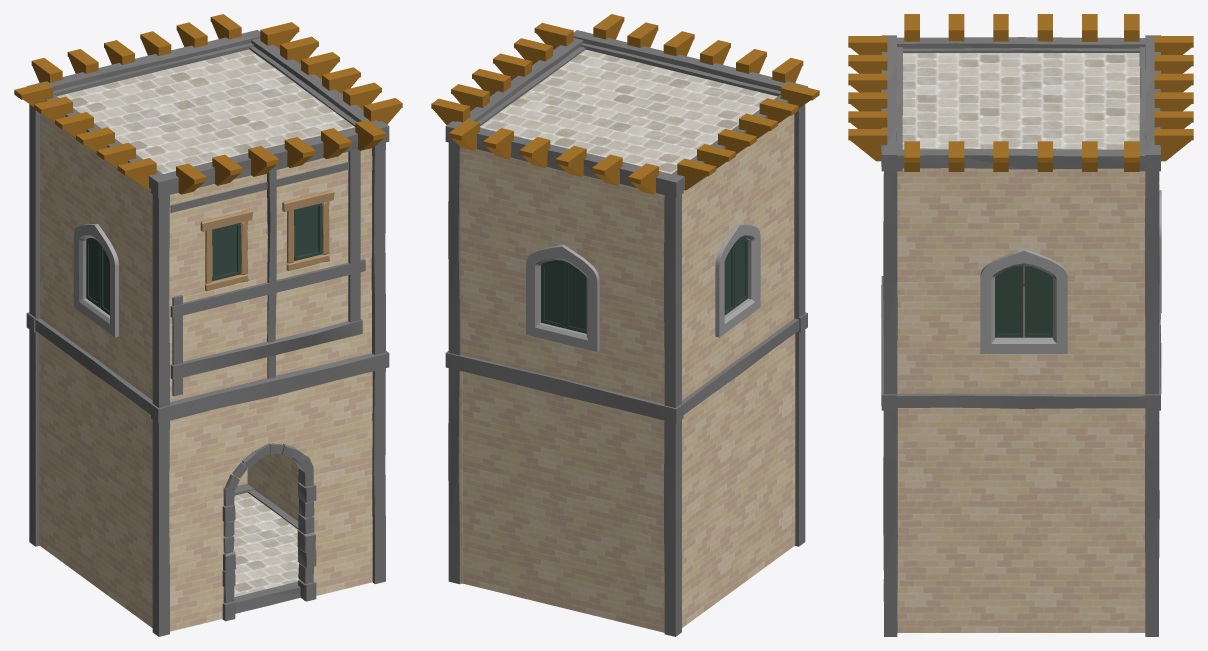
The model's file is SM_house_desert_small_03.fbx.
3 views of the same model, side by side, from view 1: azimuth 30°, elevation 25°; view 2: azimuth 150°, elevation 25°; view 3: azimuth 270°, elevation 25° (orthographic). The views are drawn at different scales.
Visible parts, largest first — view 1: Object33149; view 2: Object33149; view 3: Object33149.
Part boxes in pixels (x1,y1,x2,y2): Object33149: [14, 14, 402, 636]; Object33149: [431, 14, 819, 636]; Object33149: [848, 14, 1193, 636].
Bounding box in the file's own units: 221 × 354 × 225.
